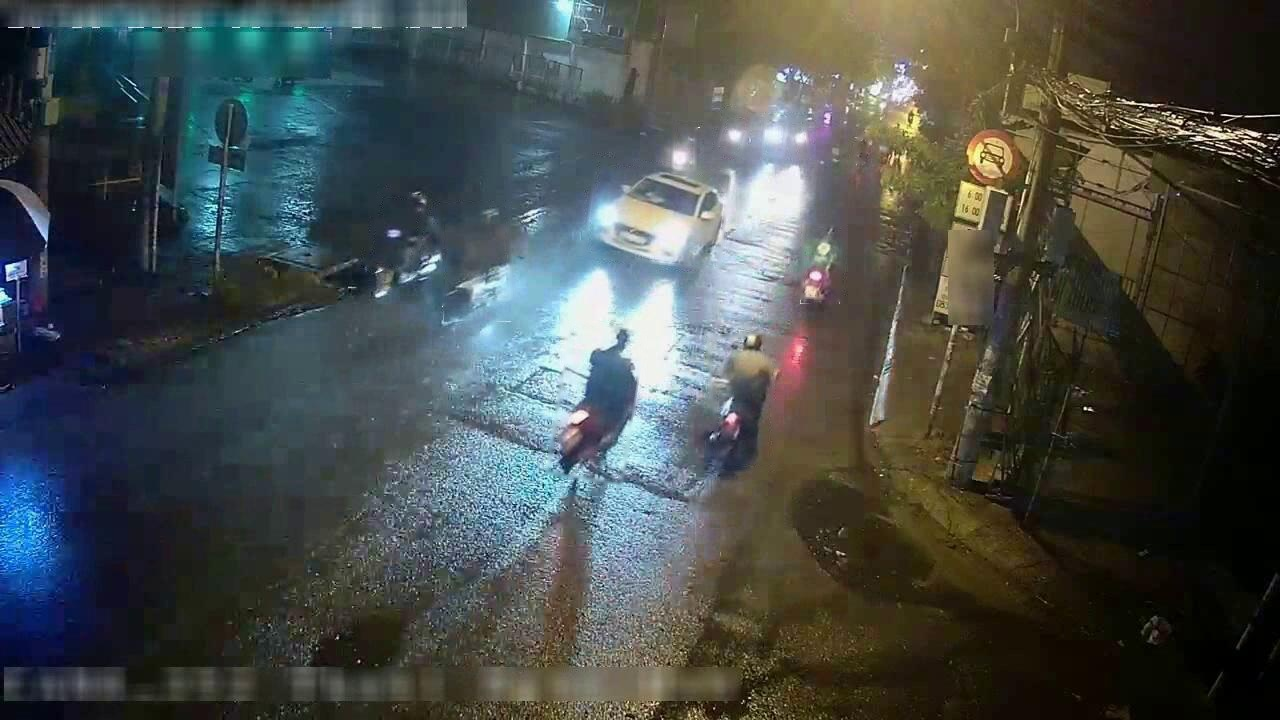Car: (595, 172, 724, 267)
Motorcyclist: (558, 329, 637, 473), (705, 333, 777, 467), (439, 208, 513, 323), (374, 191, 426, 271), (801, 228, 840, 306), (718, 115, 750, 156), (671, 129, 698, 173), (761, 119, 789, 159), (791, 122, 809, 158), (858, 137, 871, 165)
Sign: (215, 98, 247, 147)
